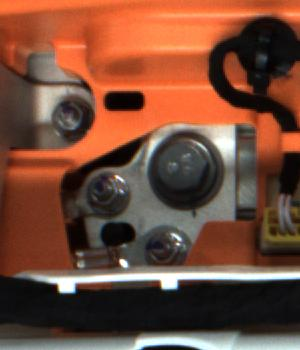nut_b: (148, 129, 222, 212)
screw_s: (143, 225, 186, 266), (46, 100, 86, 136), (85, 175, 118, 209)
